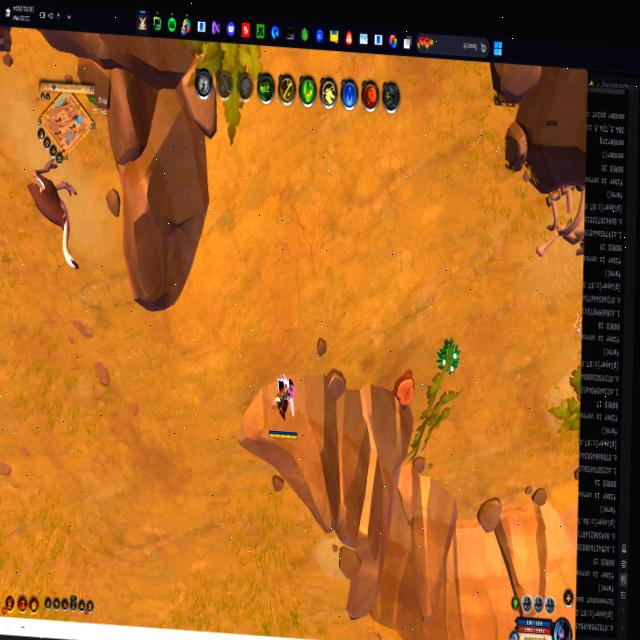hide: (438, 335, 461, 378)
ore: (23, 159, 84, 280)
red: (267, 369, 300, 444)
